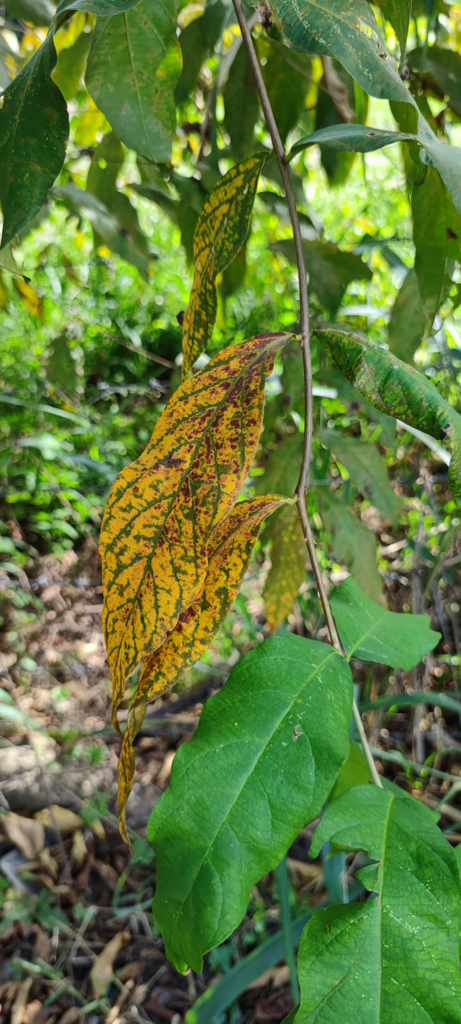Pepper yellow leaf: (96, 329, 291, 734), (105, 491, 289, 833), (167, 153, 260, 363), (274, 500, 298, 626)
